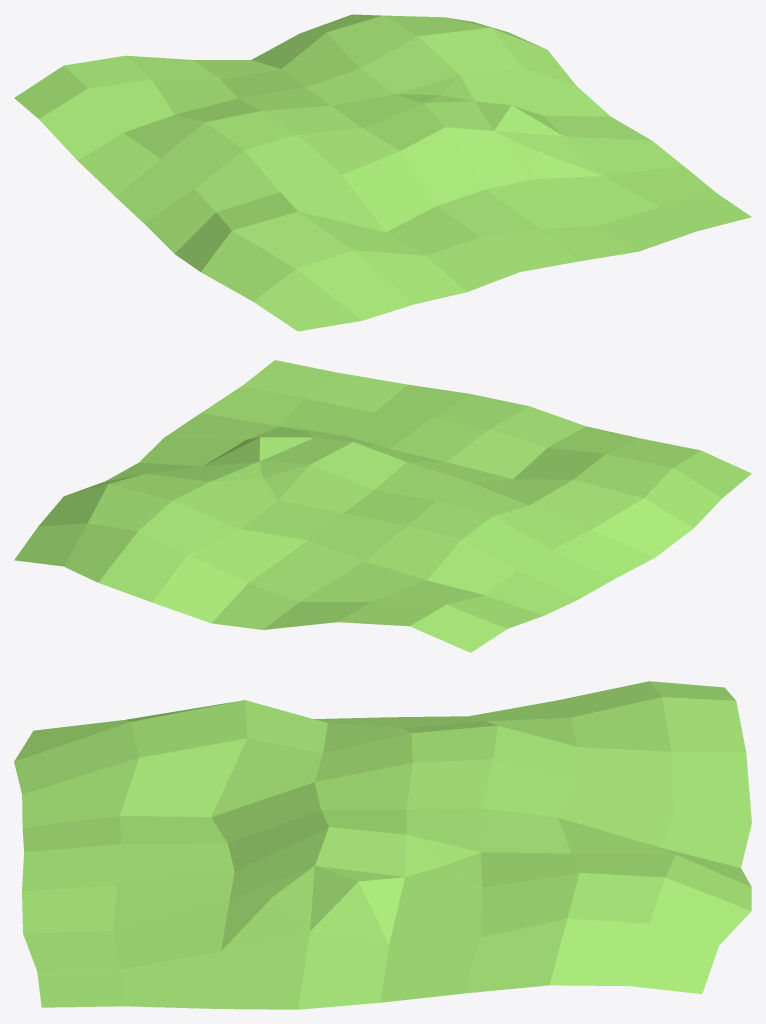
Rendered from Floor_LOD4.fbx.
3 renders of one model, top to bottom at view 1: azimuth 30°, elevation 25°; view 2: azimuth 150°, elevation 25°; view 3: azimuth 270°, elevation 25°, orthographic. The views are drawn at different scales.
Visible parts, largest first — view 1: Floor_LOD1.001; view 2: Floor_LOD1.001; view 3: Floor_LOD1.001.
Boxes of the visible parts, x1,y1,x2,y2 form: Floor_LOD1.001: (14,14,751,331); Floor_LOD1.001: (14,360,751,652); Floor_LOD1.001: (14,681,751,1009).
Bounding box in the file's own units: 3455 × 360 × 3686.
